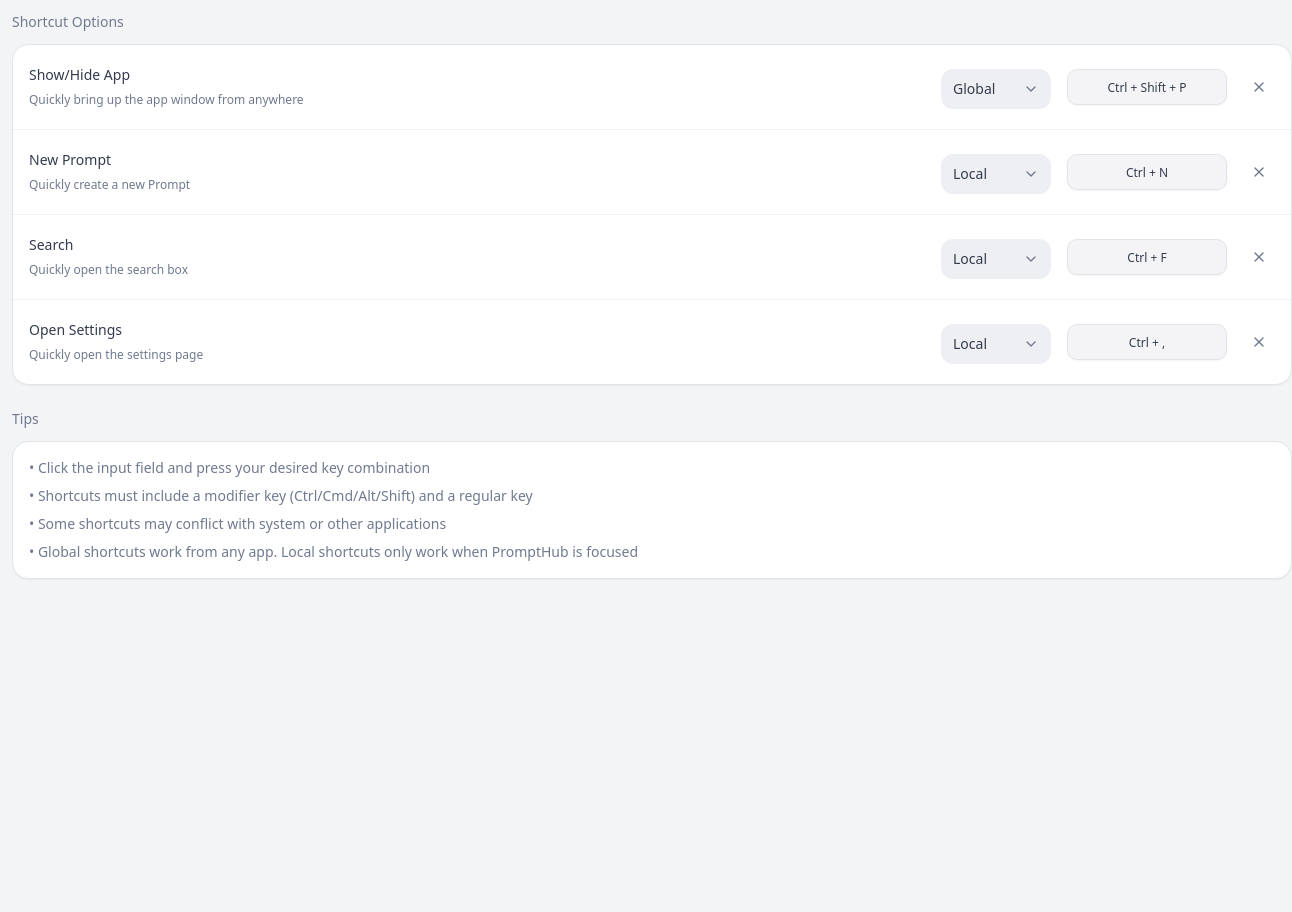
Scenario: ShortcutsSettings › rolls back shortcut edits when Electron persistence fails
Click the field showing "Ctrl + N" at (1147, 172), box [1067,154,1227,190]
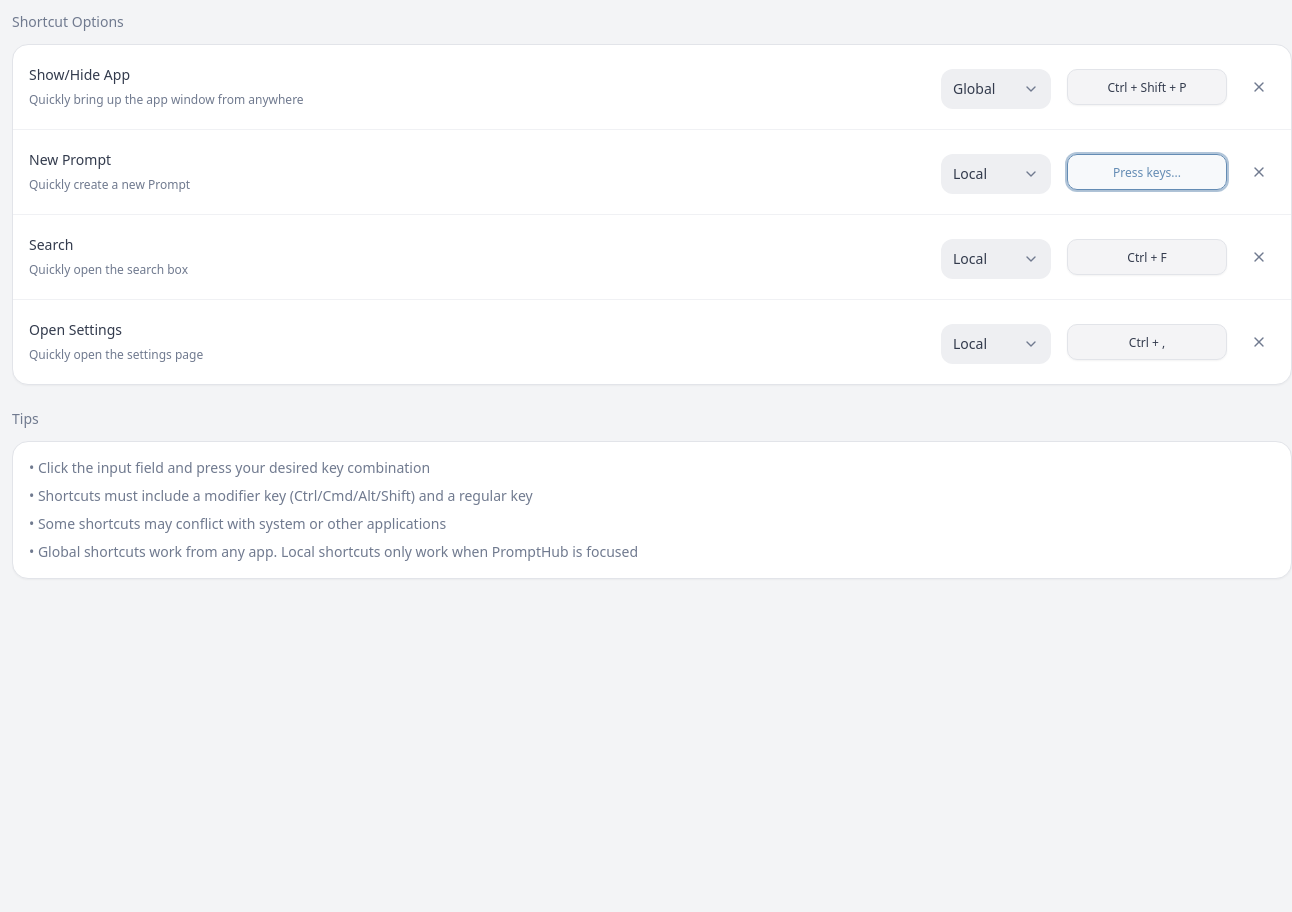
Type keys "{Control>}{Alt>}n{/Alt}{/Control}"
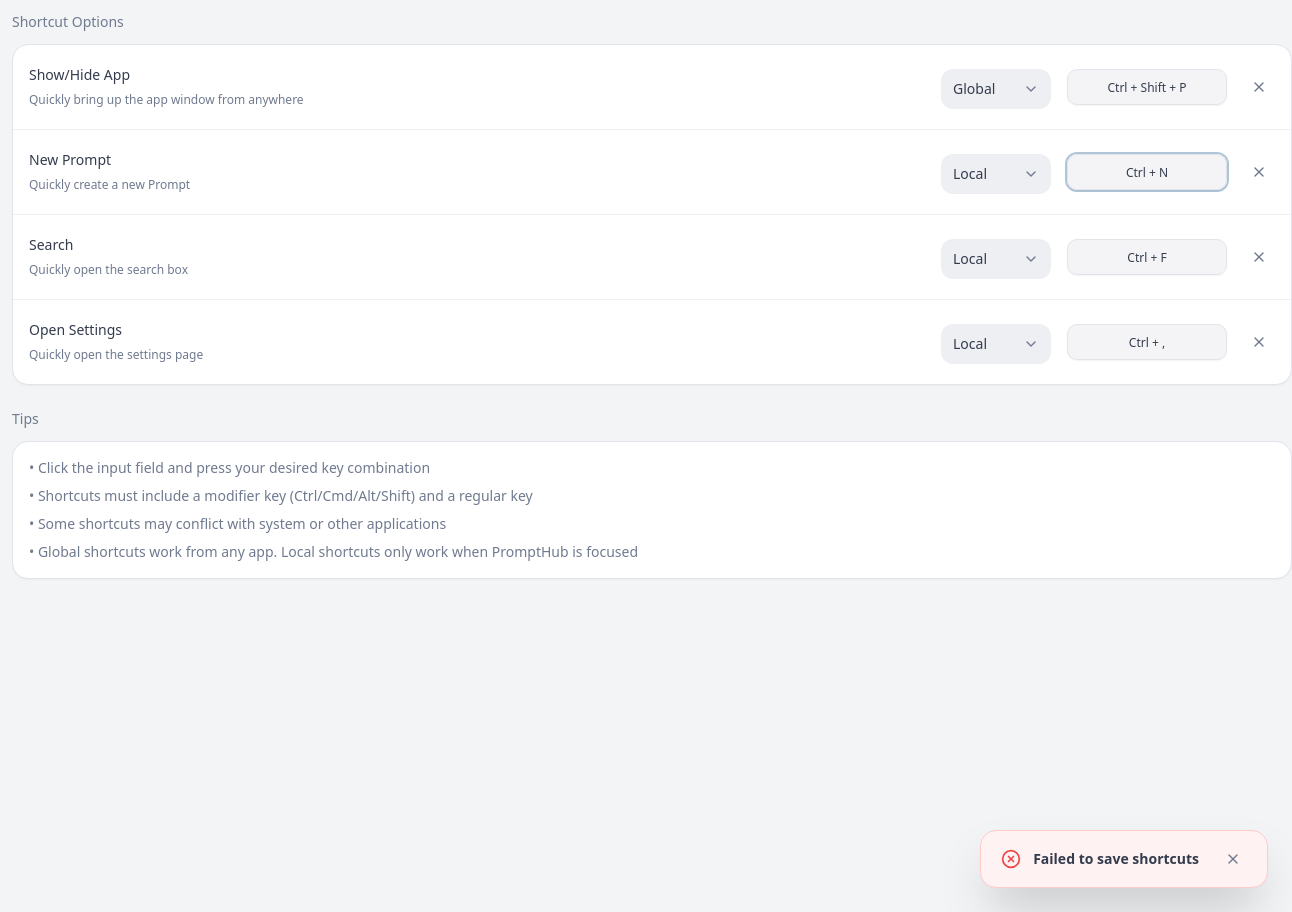
Now the text "Failed to save shortcuts" is shown, box [1033,849,1199,869]
Now the field showing "Ctrl + N" is shown, box [1067,154,1227,190]
